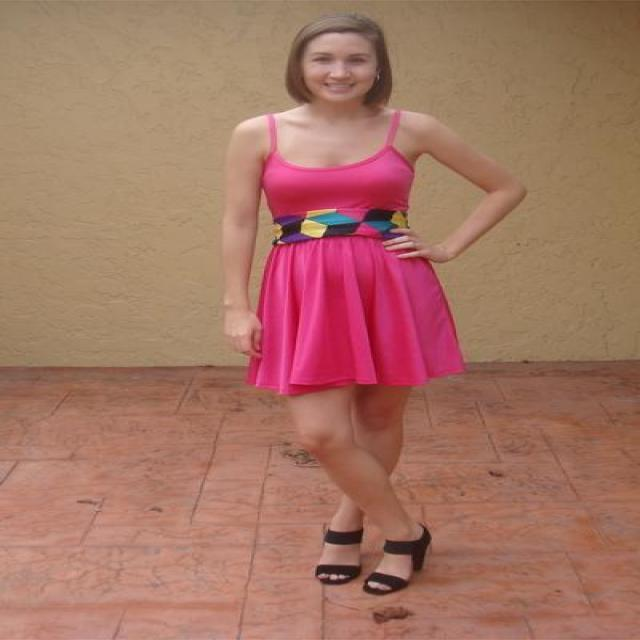dress: (240, 149, 461, 395)
shoe: (326, 525, 431, 594)
